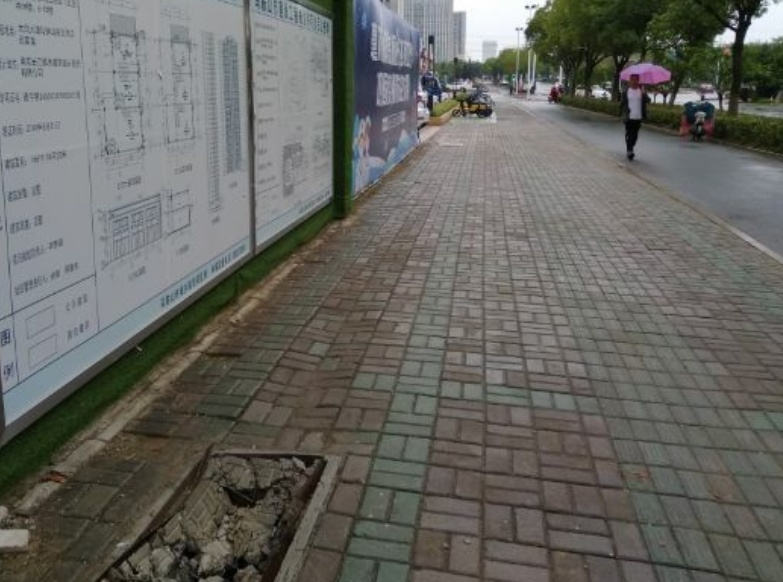broke: (89, 441, 344, 582)
